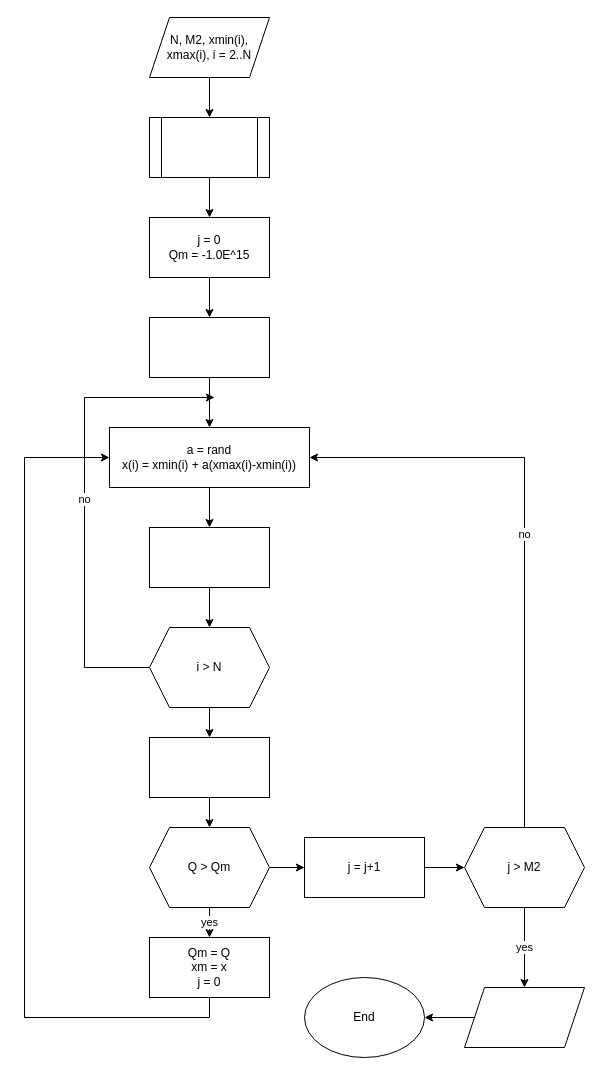
Image size: 602x1075. Some labels were removed from this diagram. Each missing label, with the box of its shape:
Func2 -> max: (148, 116, 270, 178)
i = i+1: (148, 526, 270, 588)
i=1: (148, 316, 270, 378)
Q=Func2( x ): (148, 736, 270, 798)
Qm, xm: (464, 986, 584, 1048)
